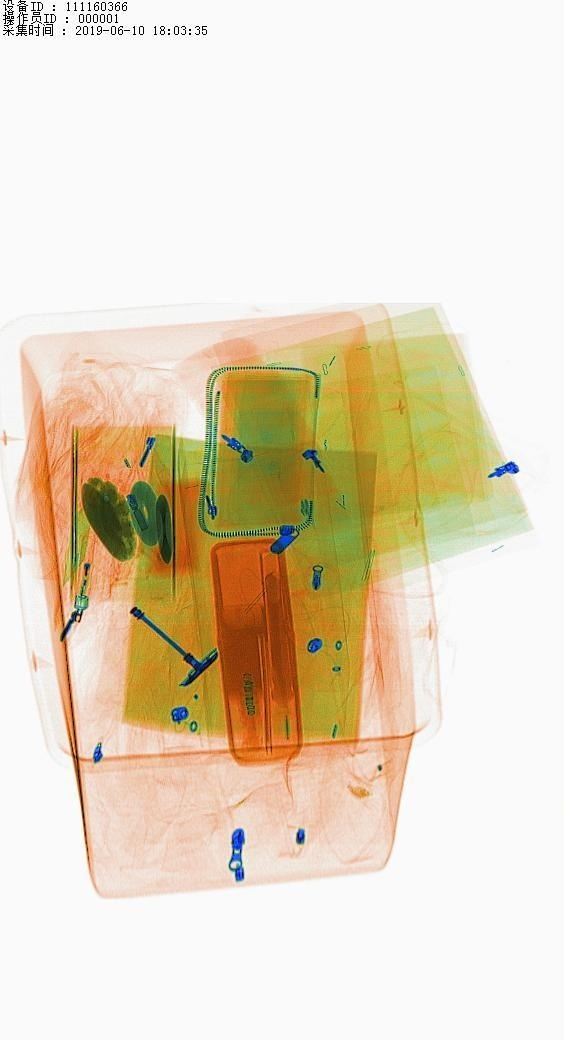NonmetallicFire: (59, 492, 111, 647)
